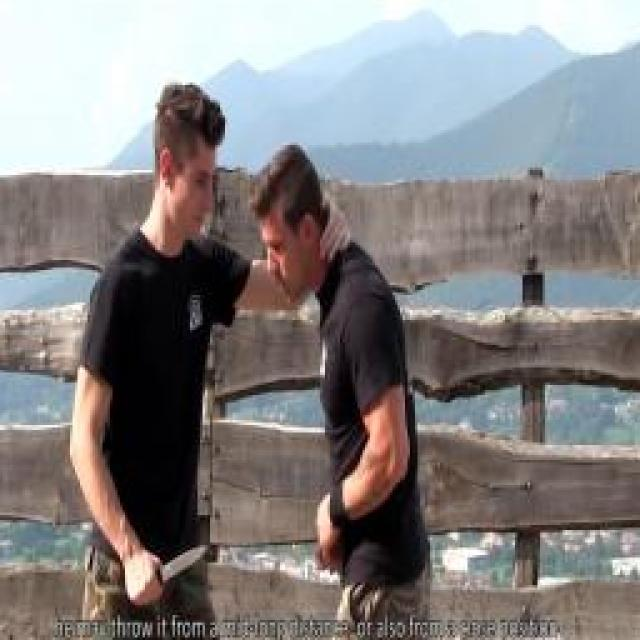knife: (122, 535, 210, 607)
